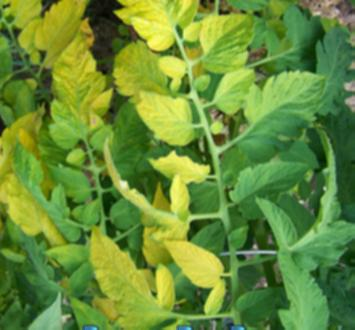Tomato leaf yellow virus: (46, 33, 115, 145), (0, 138, 68, 251), (90, 234, 170, 330), (247, 56, 329, 132), (131, 75, 197, 155), (164, 230, 224, 298)
